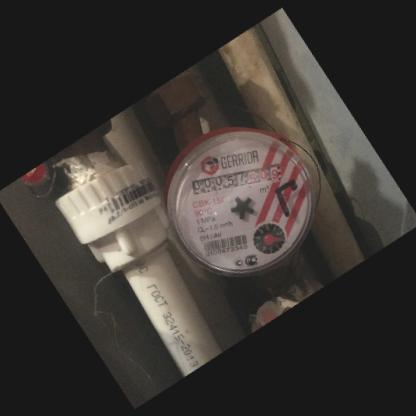digital_screen: (186, 166, 250, 198)
